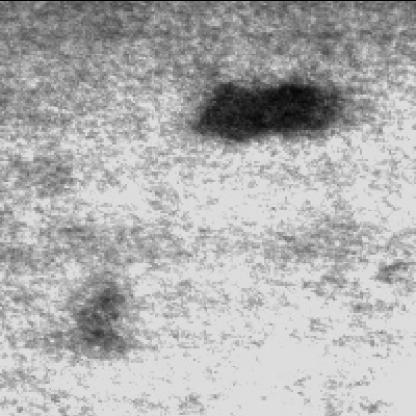patches: (192, 77, 348, 141)
